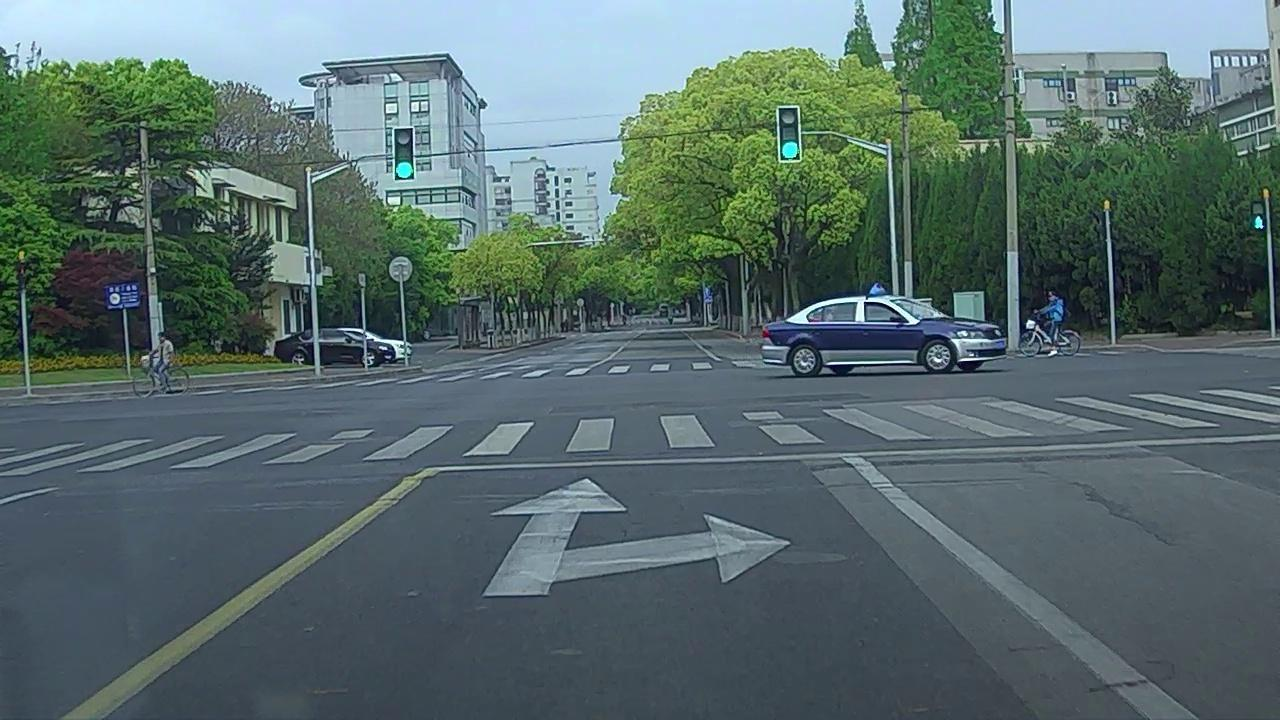traffic_light: (779, 107, 801, 163), (395, 126, 414, 182)
